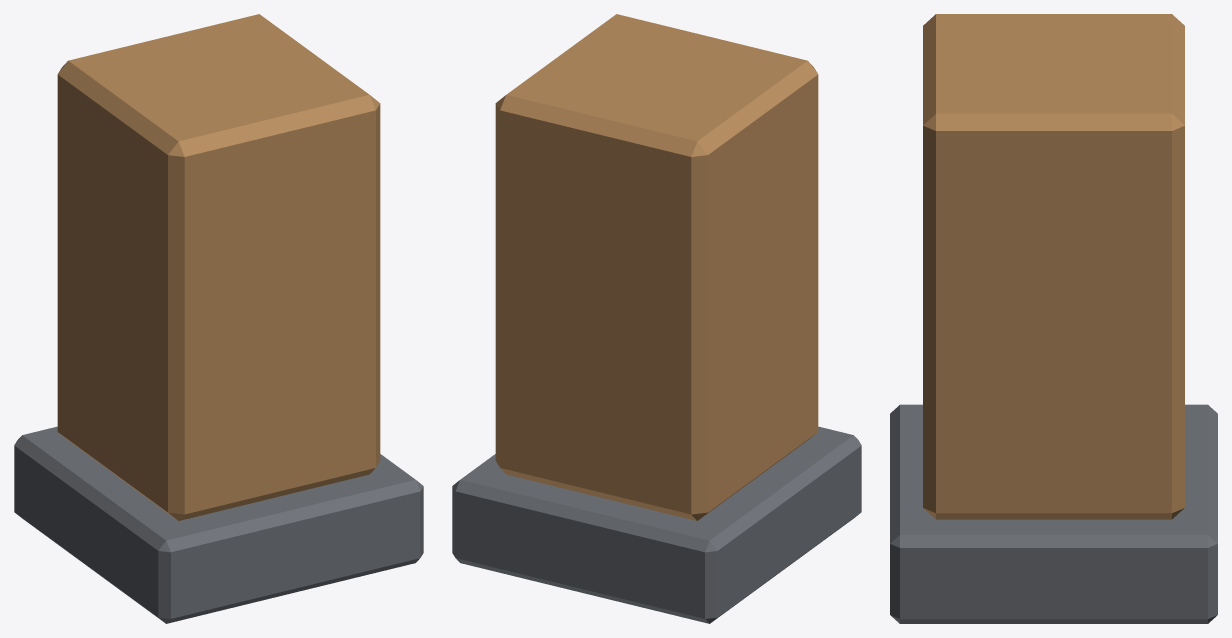
The model's file is pilier_bois_bas.glb.
The picture shows the model from 3 angles, left to right: view 1: azimuth 30°, elevation 25°; view 2: azimuth 150°, elevation 25°; view 3: azimuth 270°, elevation 25°; orthographic projection. The views are drawn at different scales.
Visible parts, largest first — view 1: pilier_bois_bas_planche.002, pilier_bois_bas_moellon_sombre.002; view 2: pilier_bois_bas_planche.002, pilier_bois_bas_moellon_sombre.002; view 3: pilier_bois_bas_planche.002, pilier_bois_bas_moellon_sombre.002.
Part boxes in pixels (left/top/right/bottom): pilier_bois_bas_planche.002: left=57, top=14, right=380, bottom=520; pilier_bois_bas_moellon_sombre.002: left=14, top=426, right=423, bottom=623; pilier_bois_bas_planche.002: left=495, top=14, right=818, bottom=520; pilier_bois_bas_moellon_sombre.002: left=452, top=426, right=861, bottom=623; pilier_bois_bas_planche.002: left=923, top=14, right=1184, bottom=519; pilier_bois_bas_moellon_sombre.002: left=890, top=404, right=1217, bottom=623.
Size of the model in its own units: 0.3 by 0.5 by 0.3.
